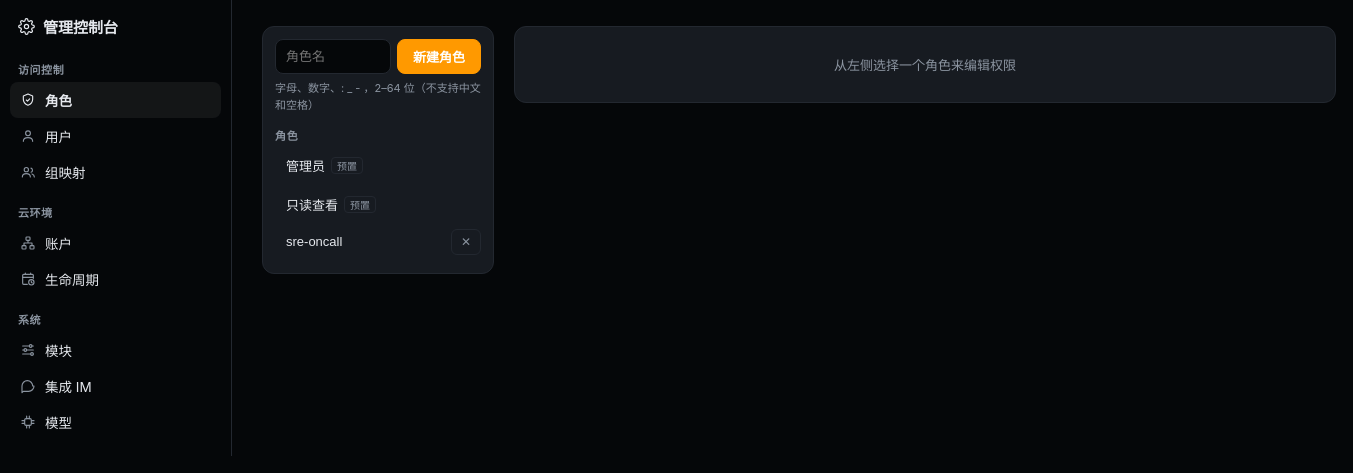
Test: 管理 → 角色 → 新建角色 › 合法的新名字 → 真的发出创建请求（权限为空），并选中它
Expected: the text "sre-oncall" is shown, x1=286 y1=234 x2=342 y2=249
In the field with placeholder "角色名": (333, 56) x1=275 y1=39 x2=391 y2=74, type "sre-secondary"
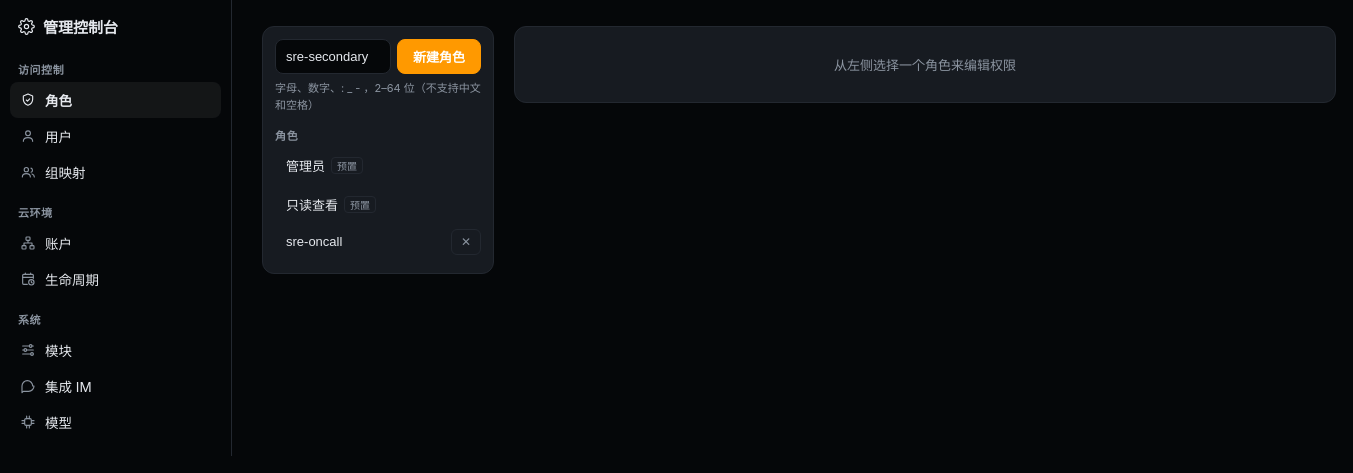
Click the button "新建角色": click(439, 56) x1=397 y1=39 x2=481 y2=74
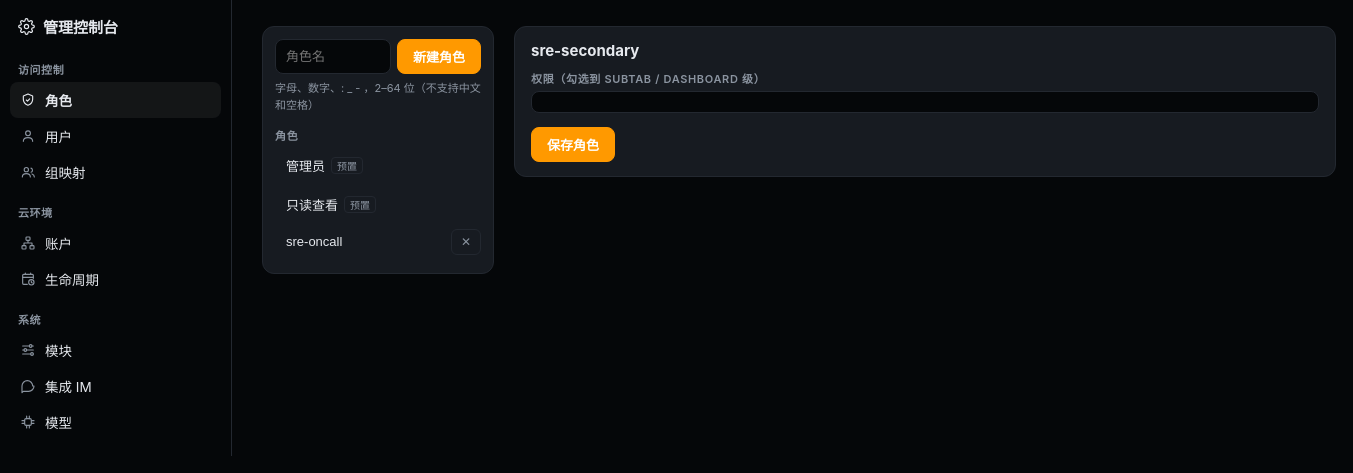
Expected: the text "从左侧选择一个角色来编辑权限" is gone
Expected: the field with placeholder "角色名" is empty, x1=275 y1=39 x2=391 y2=74
